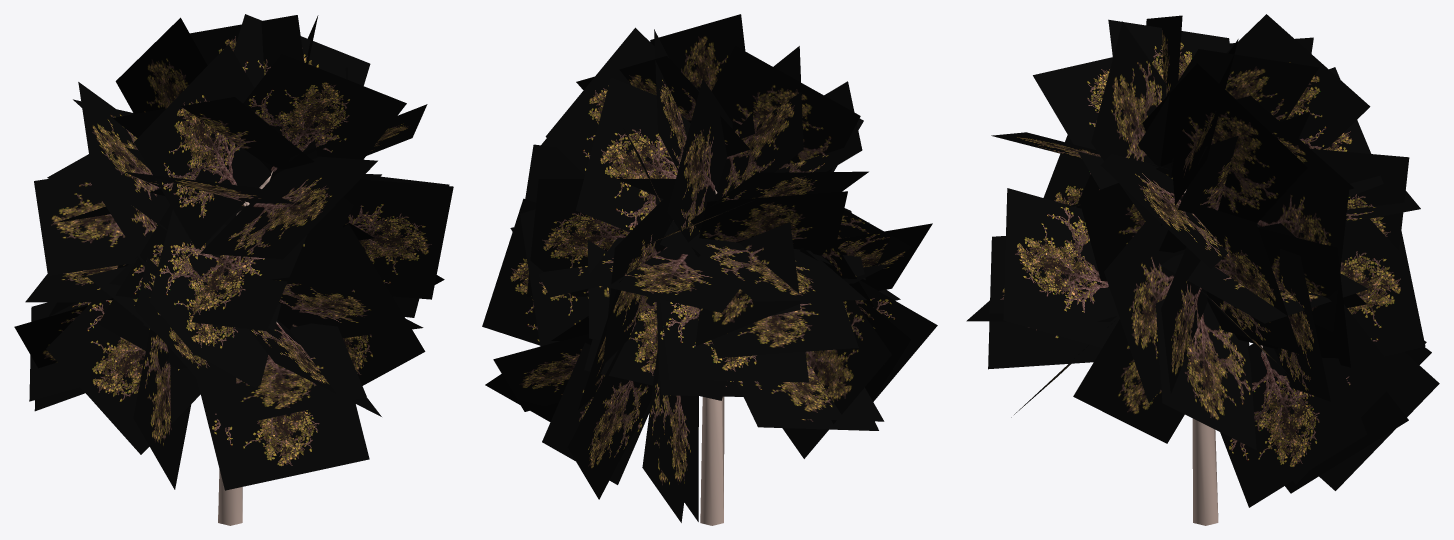
File: tree38.glb
3 views of the same model, side by side, from view 1: azimuth 30°, elevation 25°; view 2: azimuth 150°, elevation 25°; view 3: azimuth 270°, elevation 25° (orthographic). The views are drawn at different scales.
Size of the model in its own units: 6.18 by 7.3 by 6.22.
2 materials, 1 textured.
